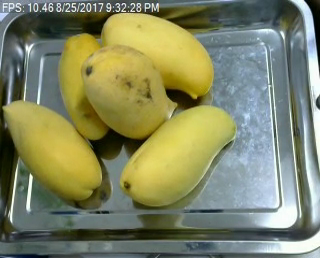Mango: (121, 105, 237, 206), (2, 99, 102, 201), (101, 11, 211, 98), (80, 44, 178, 138), (59, 31, 113, 138)
